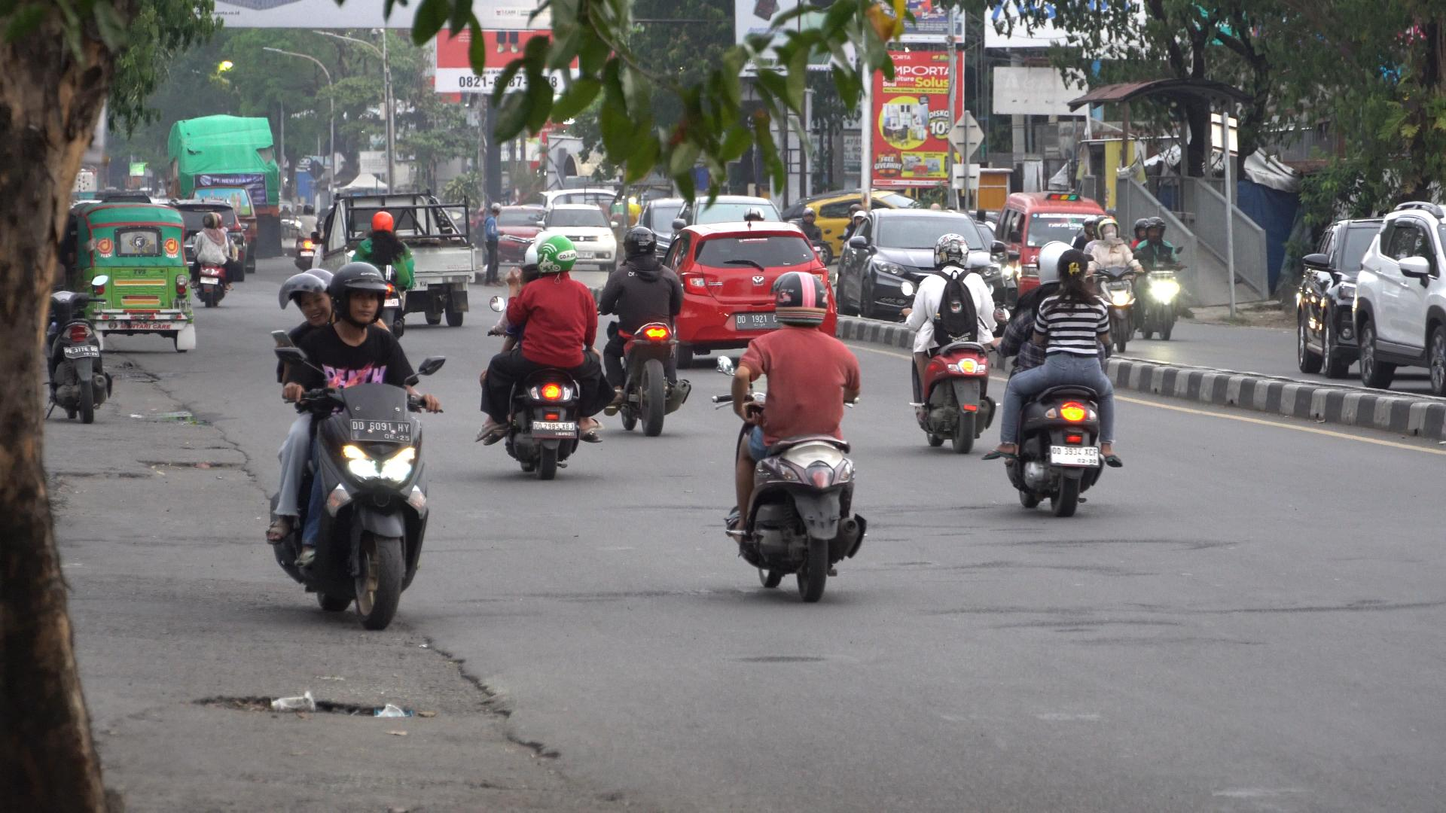number-plate: (349, 413, 413, 445)
